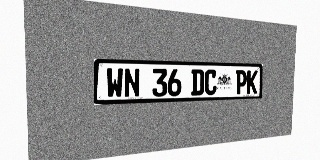3: (152, 69, 167, 97)
6: (167, 69, 182, 96)
C: (204, 69, 217, 95)
D: (191, 69, 204, 96)
K: (246, 70, 258, 94)
N: (124, 68, 140, 98)
P: (235, 70, 247, 94)
W: (106, 68, 123, 98)
